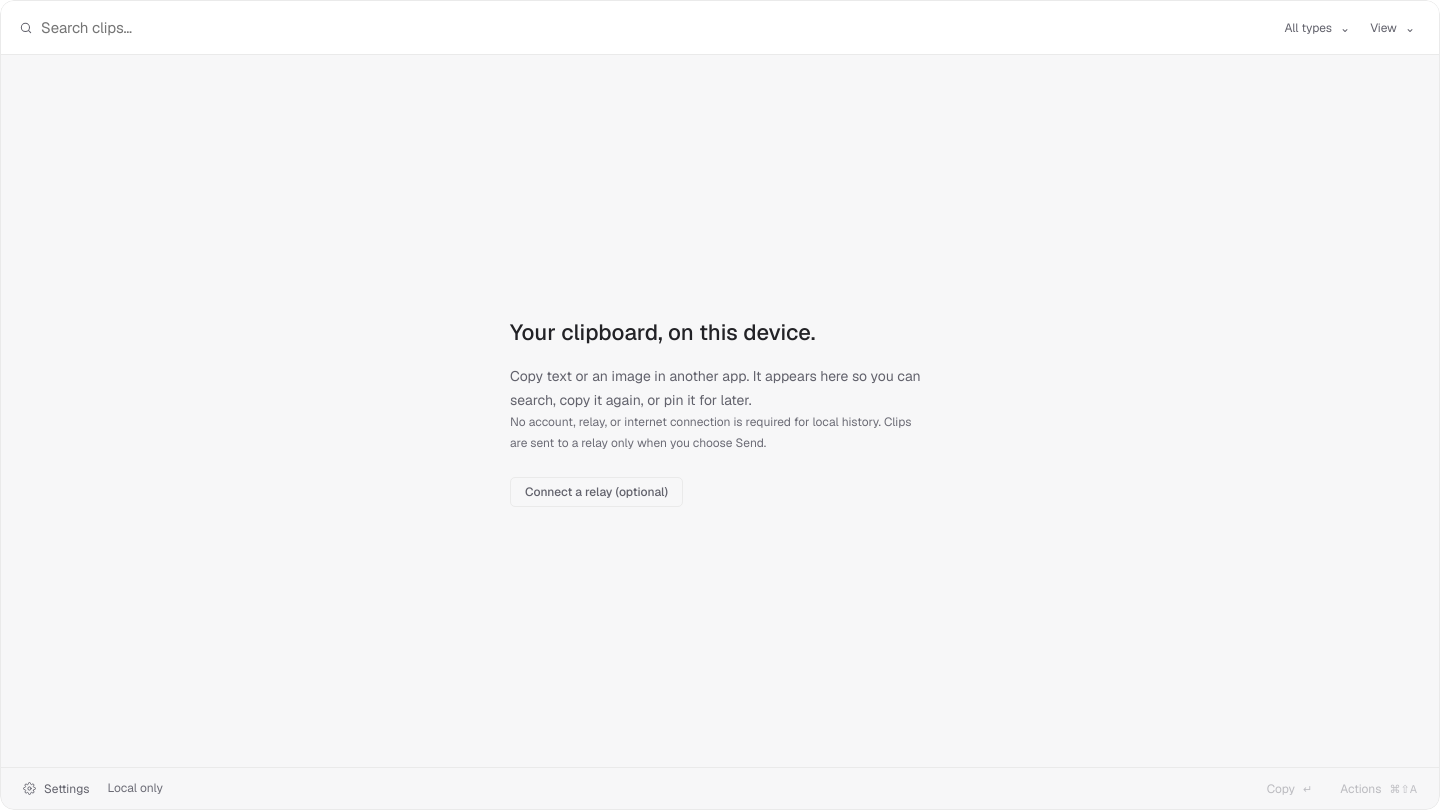
Test: App › shows search misses instead of onboarding in local mode
In the field labelled "Search clips": (656, 28) [41,18,1270,37], type "missing"
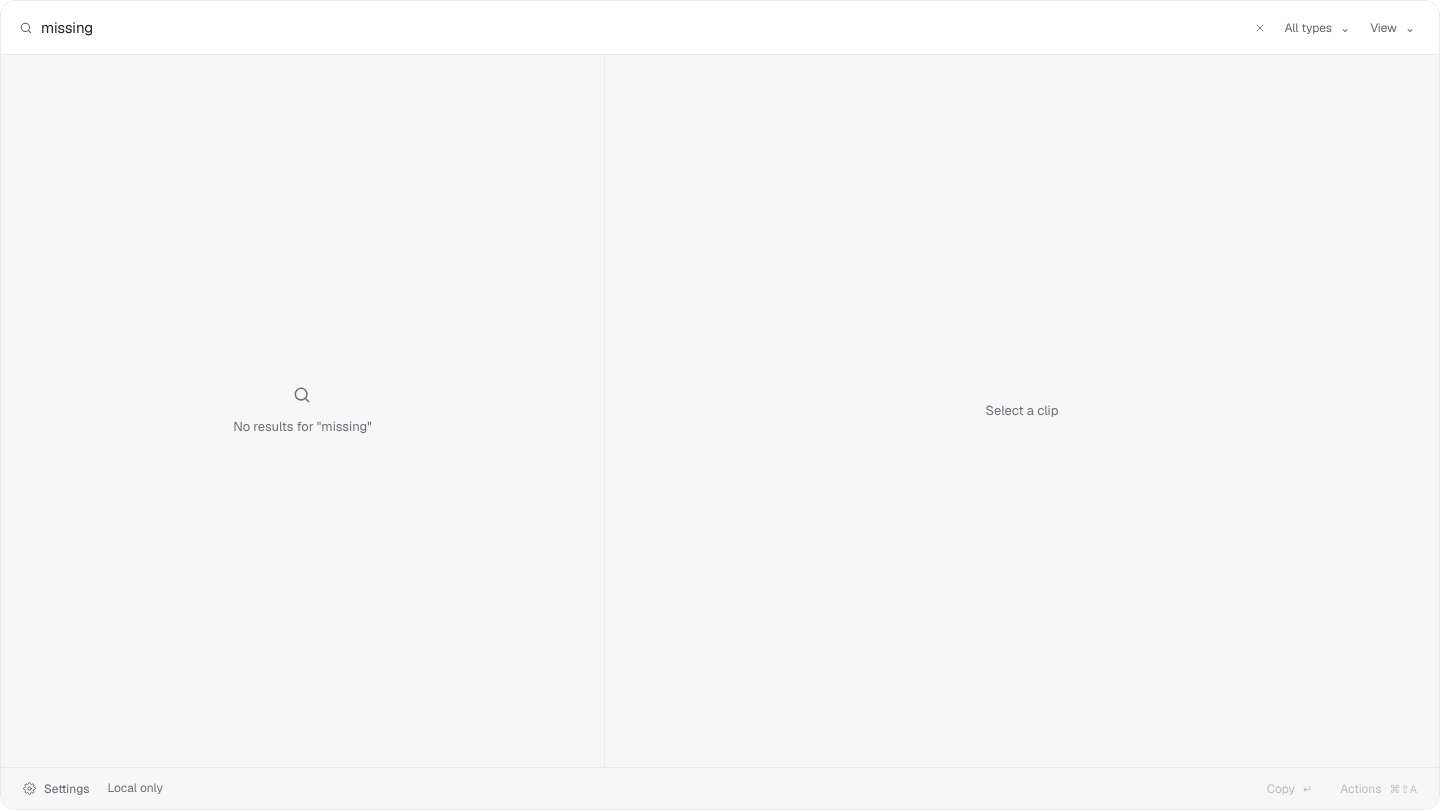
Now the text "No results for \"missing\"" is shown, box [233,417,372,437]
Now the element with test id "getting-started-card" is gone
